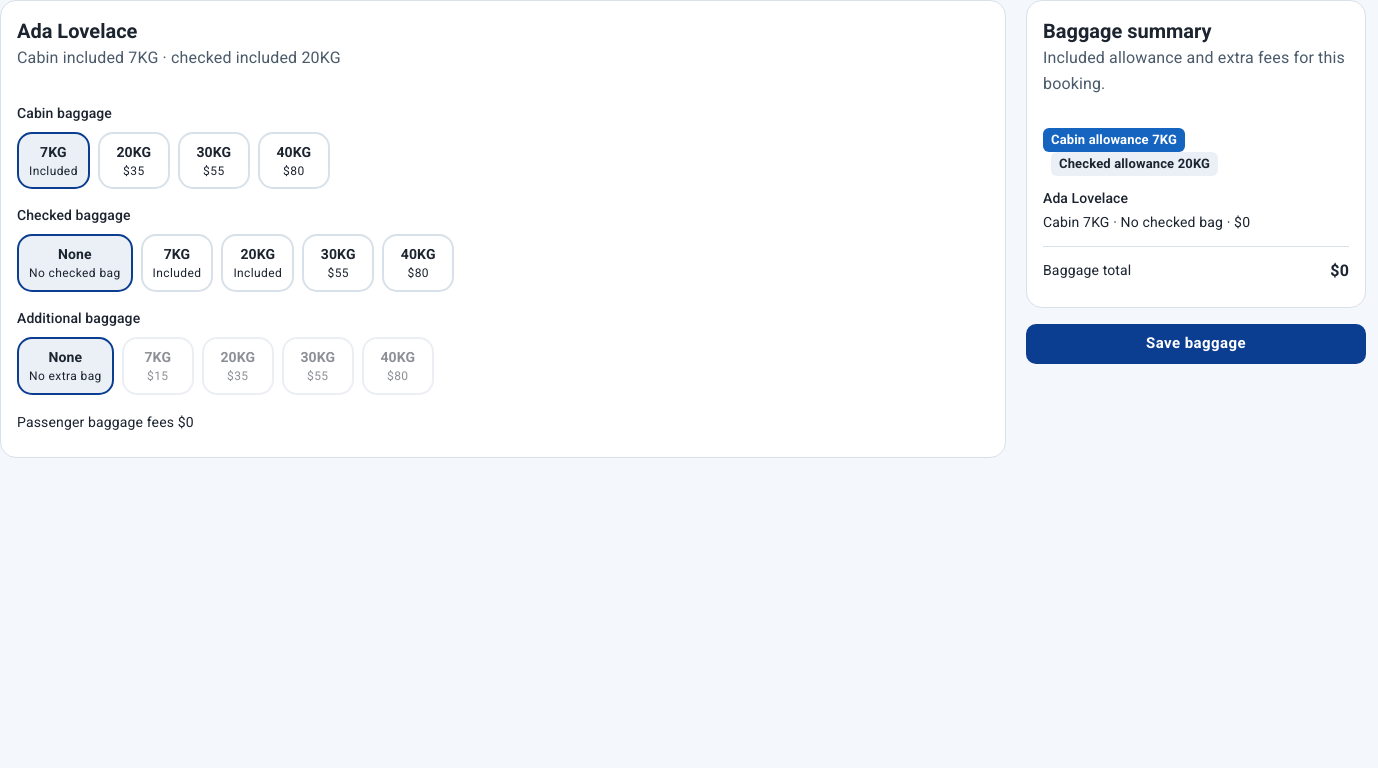
Test case: BaggageSelectionPanel › dismisses the saved success alert
Click the button "Save baggage" at [1196, 344], box [1026,324,1366,364]
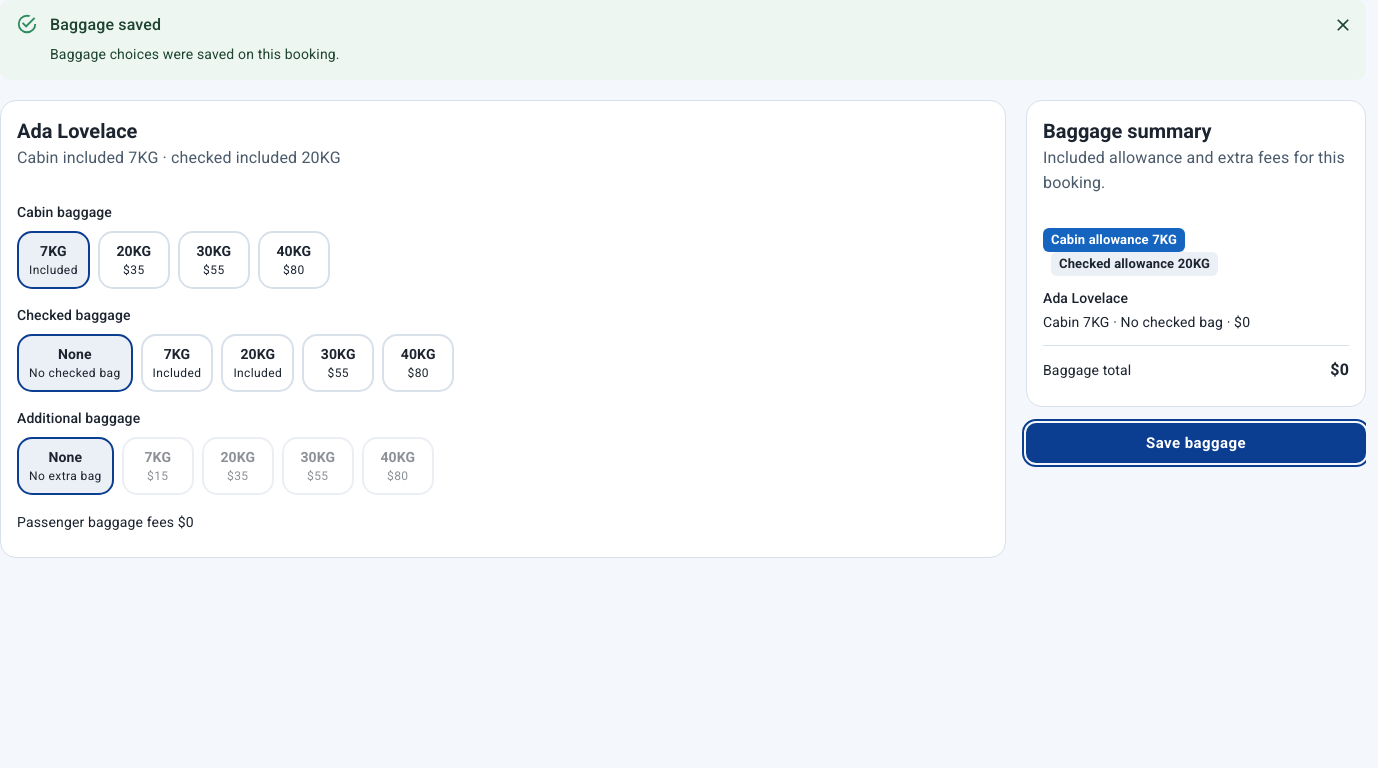
expect the text "Baggage saved" is shown: met, box [50,15,161,34]
Click the button named "Close" at [1343, 25], box [1328,10,1358,40]
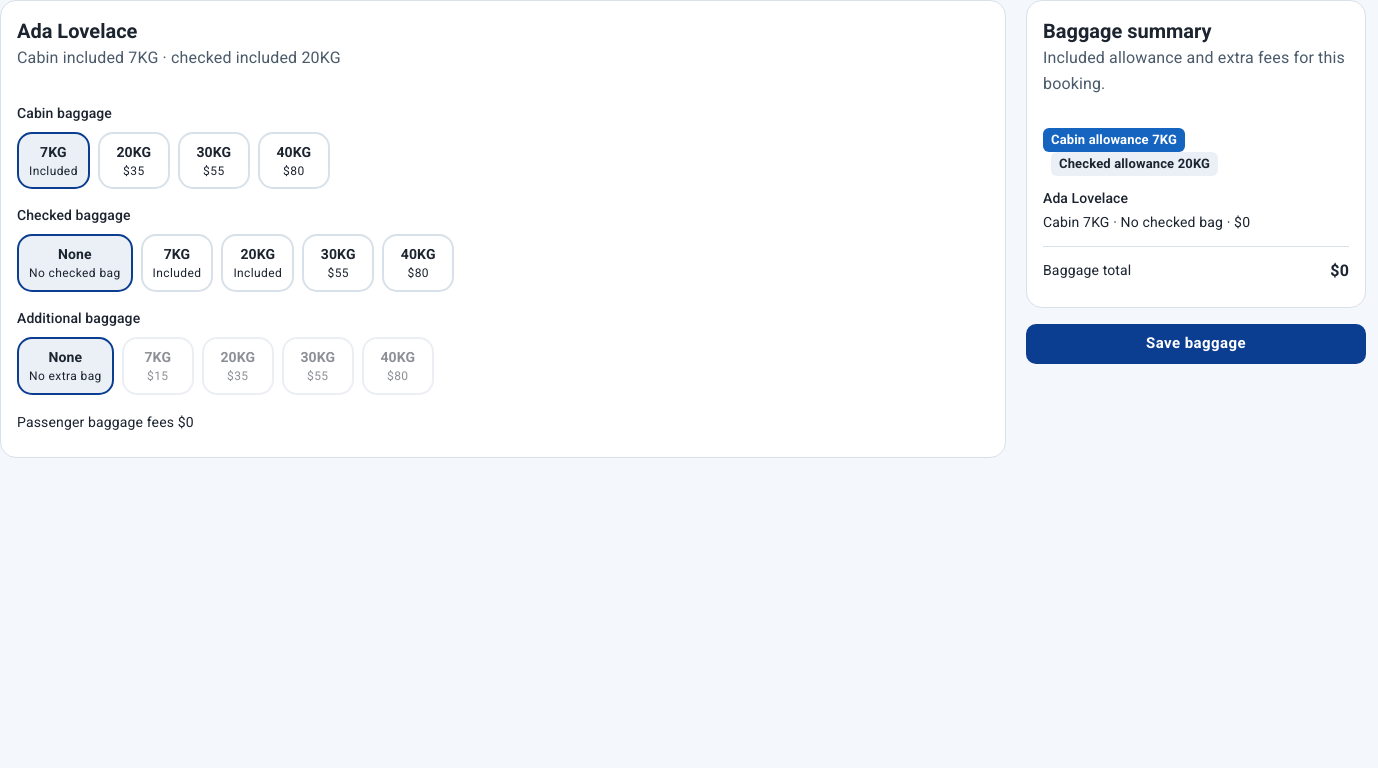
expect the text "Baggage saved" is gone: met
